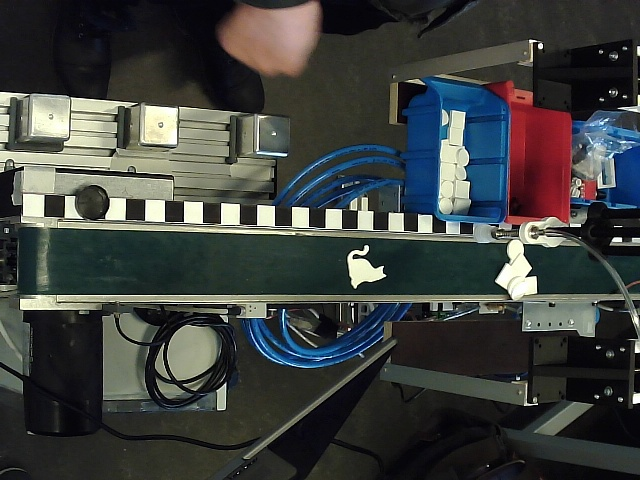cat: (346, 244, 386, 290)
